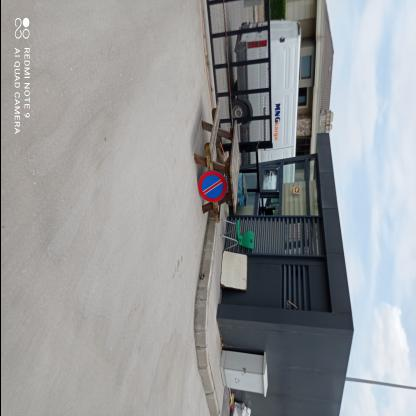No Waiting: (199, 173, 227, 203)
